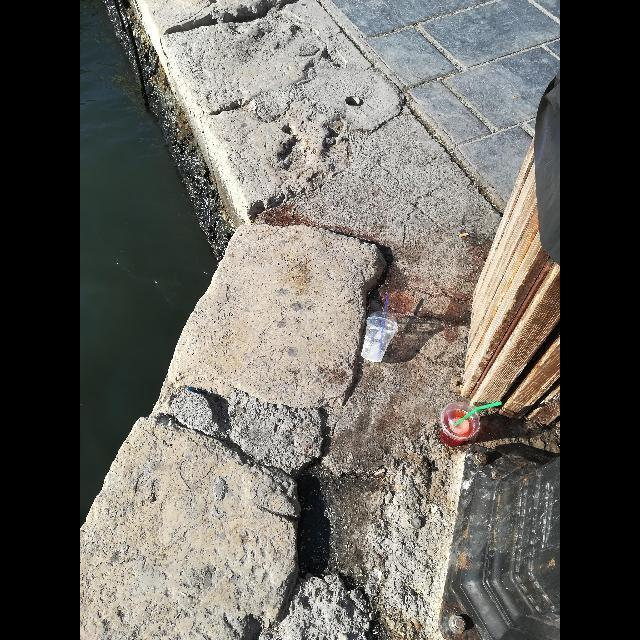Plastic: (439, 402, 481, 446), (362, 312, 398, 362), (454, 402, 502, 426), (379, 294, 389, 354)
